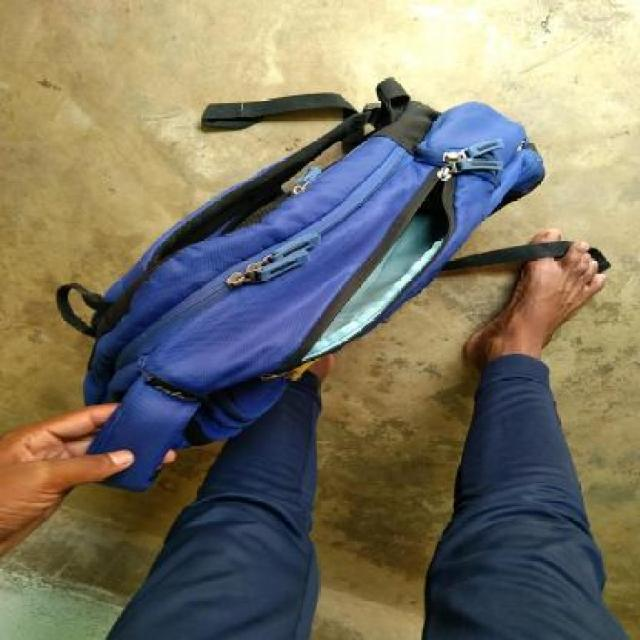backpack: (66, 63, 563, 500)
